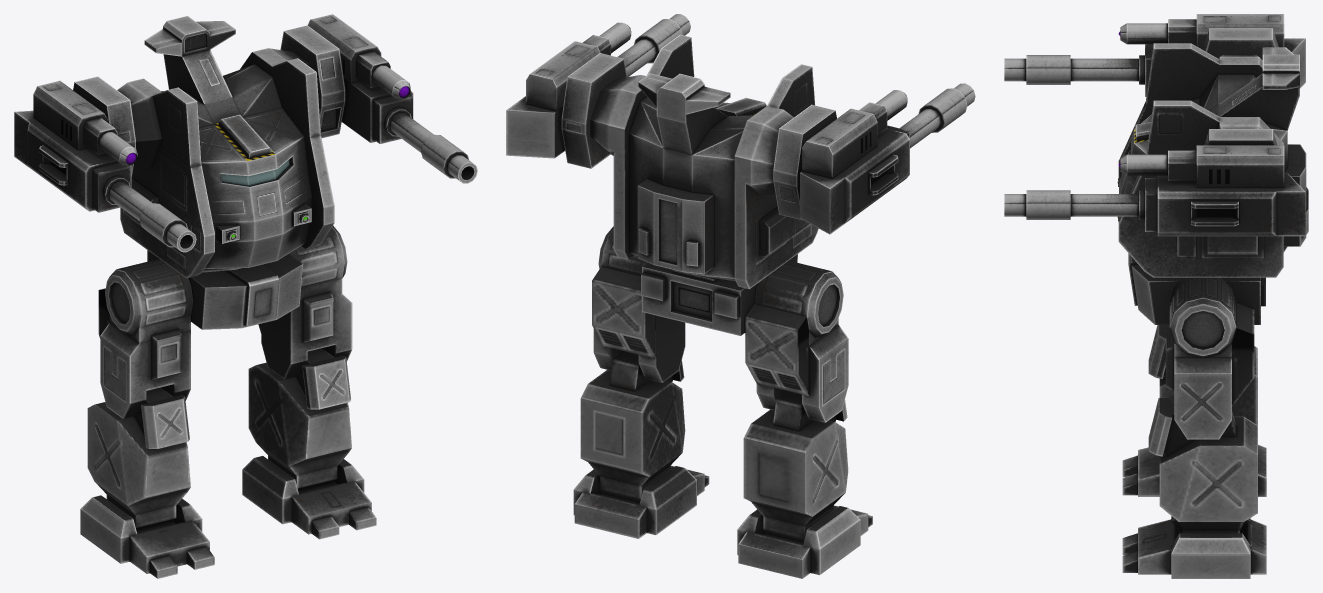
The picture shows the model from 3 angles, left to right: view 1: azimuth 30°, elevation 25°; view 2: azimuth 150°, elevation 25°; view 3: azimuth 270°, elevation 25°; orthographic projection. The views are drawn at different scales.
Visible parts, largest first — view 1: torso, lupperleg, 7d_lupperarm, llowerleg, rlowerleg, rupperarm, rupperleg, rfoot, lfoot, pelvis, barrel_2, barrel_1; view 2: torso, 7d_lupperarm, lupperleg, llowerleg, rlowerleg, rupperarm, rupperleg, rfoot, lfoot, pelvis, barrel_2, barrel_1; view 3: torso, rupperarm, rupperleg, rlowerleg, rfoot, 7d_lupperarm, barrel_2, barrel_1, pelvis, lfoot, llowerleg.
Part boxes in pixels (x1=…): torso: x1=117, y1=16, x2=334, y2=278; lupperleg: x1=98, y1=259, x2=193, y2=418; 7d_lupperarm: x1=14, y1=76, x2=137, y2=212; llowerleg: x1=87, y1=387, x2=190, y2=531; rlowerleg: x1=248, y1=348, x2=351, y2=491; rupperarm: x1=280, y1=14, x2=413, y2=143; rupperleg: x1=258, y1=225, x2=352, y2=379; rfoot: x1=242, y1=456, x2=376, y2=539; lfoot: x1=80, y1=495, x2=214, y2=578; pelvis: x1=147, y1=250, x2=302, y2=329; barrel_2: x1=108, y1=181, x2=196, y2=252; barrel_1: x1=389, y1=112, x2=477, y2=183; torso: x1=590, y1=34, x2=818, y2=289; 7d_lupperarm: x1=773, y1=90, x2=909, y2=234; lupperleg: x1=745, y1=260, x2=848, y2=422; llowerleg: x1=743, y1=391, x2=848, y2=542; rlowerleg: x1=580, y1=351, x2=685, y2=502; rupperarm: x1=506, y1=22, x2=631, y2=168; rupperleg: x1=592, y1=226, x2=685, y2=382; rfoot: x1=573, y1=465, x2=709, y2=538; lfoot: x1=737, y1=505, x2=872, y2=578; pelvis: x1=641, y1=254, x2=797, y2=335; barrel_2: x1=899, y1=83, x2=975, y2=148; barrel_1: x1=617, y1=14, x2=690, y2=76; torso: x1=1118, y1=43, x2=1308, y2=277; rupperarm: x1=1118, y1=129, x2=1305, y2=236; rupperleg: x1=1165, y1=277, x2=1254, y2=439; rlowerleg: x1=1148, y1=397, x2=1257, y2=533; rfoot: x1=1122, y1=516, x2=1266, y2=578; 7d_lupperarm: x1=1118, y1=14, x2=1305, y2=96; barrel_2: x1=1004, y1=55, x2=1138, y2=84; barrel_1: x1=1004, y1=190, x2=1138, y2=219; pelvis: x1=1128, y1=253, x2=1265, y2=324; lfoot: x1=1122, y1=444, x2=1266, y2=496; llowerleg: x1=1148, y1=325, x2=1257, y2=425.
Bounding box in the file's own units: 51 × 66.65 × 39.9.
Materials: 1 (1 with a texture image).
